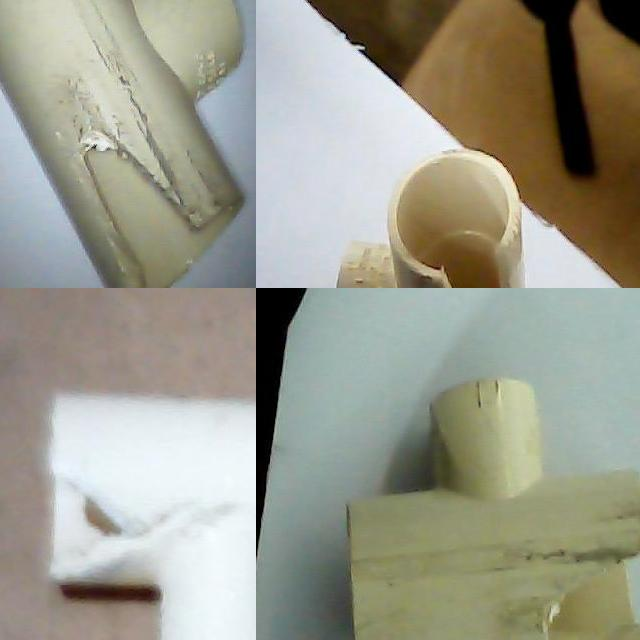Defective: (73, 138, 201, 281), (44, 441, 144, 605), (549, 563, 640, 640), (416, 233, 512, 288), (434, 246, 516, 288)
T Joint: (345, 378, 640, 640), (48, 394, 256, 640), (335, 149, 528, 288)
